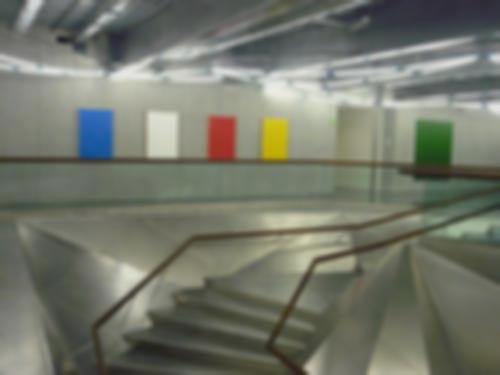Escaleras: (97, 186, 500, 370)
